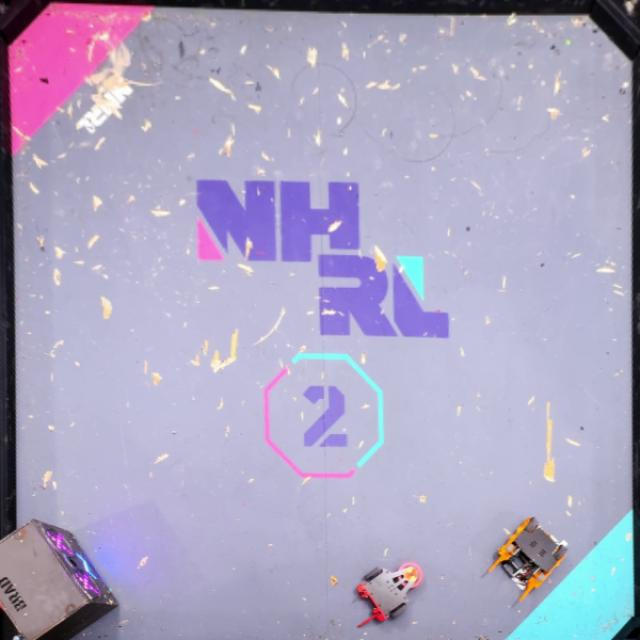housebot: (0, 520, 121, 640)
robot: (486, 517, 568, 602), (355, 560, 425, 627)
